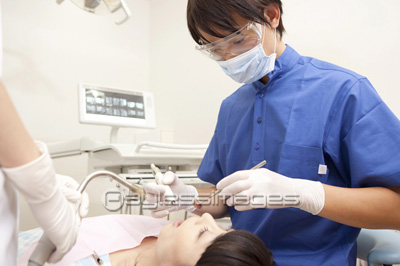mask: (216, 46, 278, 86)
